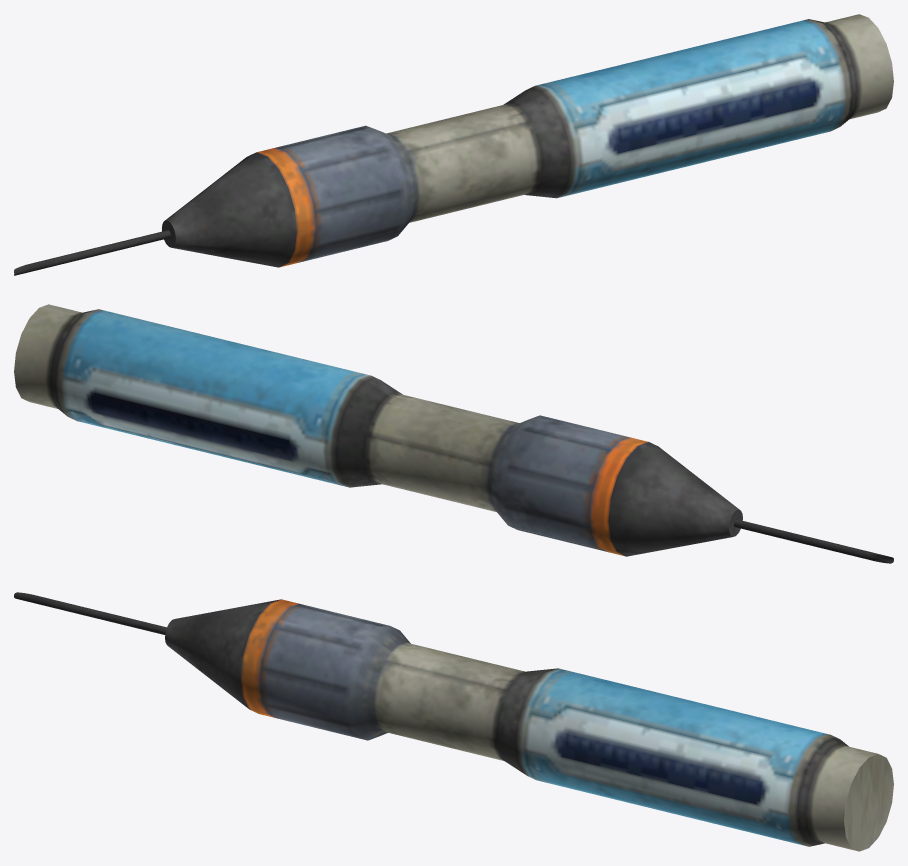
The model's file is syringe.dae.
The picture shows the model from 3 angles, top to bottom: view 1: azimuth 30°, elevation 25°; view 2: azimuth 150°, elevation 25°; view 3: azimuth 330°, elevation 25°; orthographic projection.
Parts seen in each view (by area): view 1: pCylinder1; view 2: pCylinder1; view 3: pCylinder1.
Boxes of the visible parts, x1,y1,x2,y2 form: pCylinder1: (14,14,893,275); pCylinder1: (14,304,893,563); pCylinder1: (14,592,893,851).
Size of the model in its own units: 0.2997 by 0.0357 by 0.0357.
